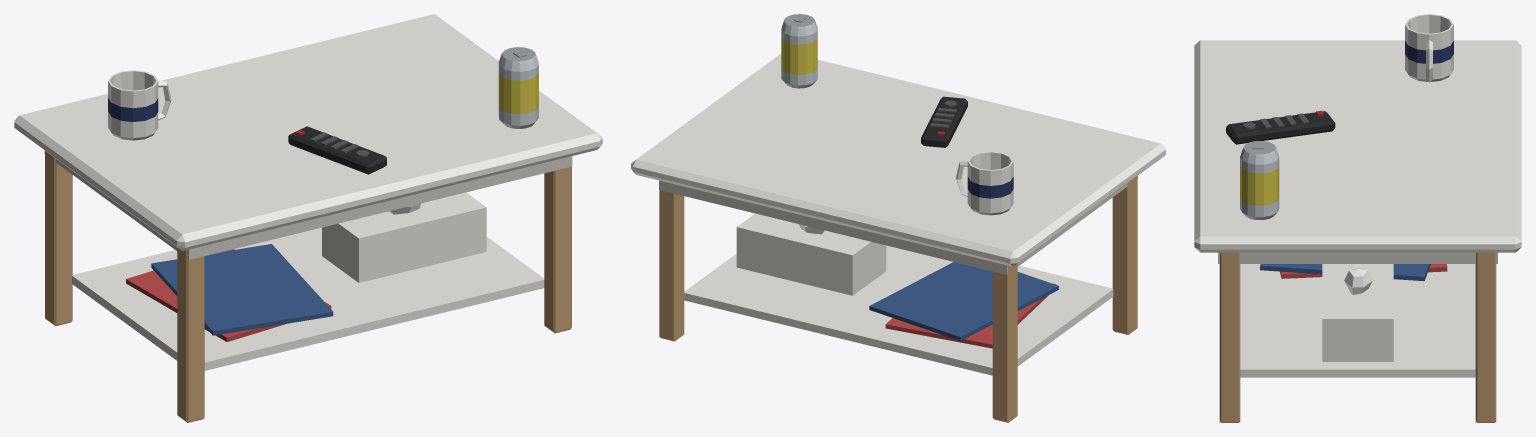
The model's file is low_table.glb.
3 renders of one model, left to right at view 1: azimuth 30°, elevation 25°; view 2: azimuth 150°, elevation 25°; view 3: azimuth 270°, elevation 25°, orthographic. The views are drawn at different scales.
Parts seen in each view (by area): view 1: body; view 2: body; view 3: body.
Boxes of the visible parts, x1,y1,x2,y2 form: body: (14, 14, 602, 422); body: (631, 14, 1165, 422); body: (1194, 14, 1521, 422).
Size of the model in its own units: 0.8 by 0.4845 by 0.55.
